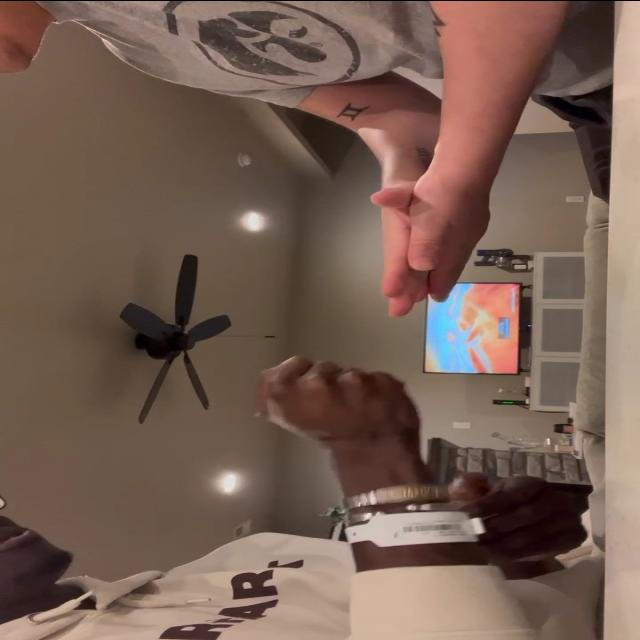Paper: (368, 182, 428, 316)
Rock: (251, 352, 421, 444)
